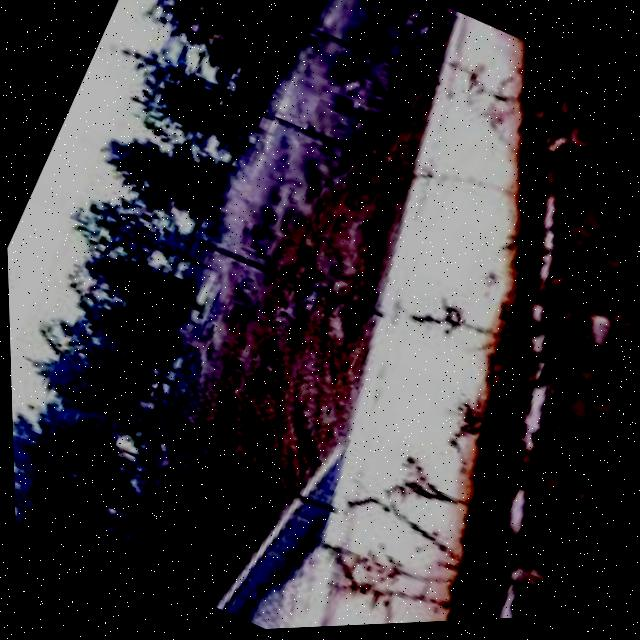Fire: (619, 247, 640, 383)
